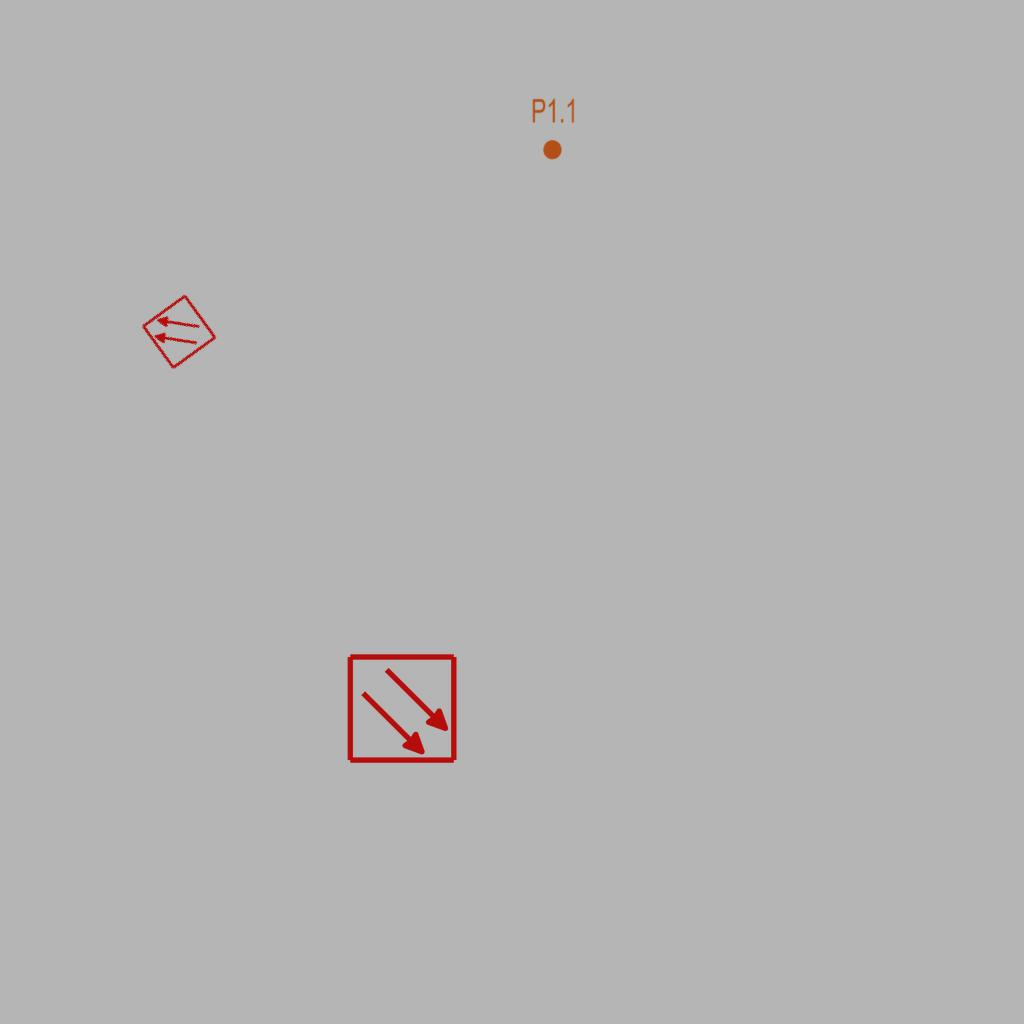Downlight_LED_Einbauleuchten_Flur: (531, 97, 577, 161)
RMO_Rauchmelder_optischer: (346, 652, 459, 765), (139, 292, 219, 372)
